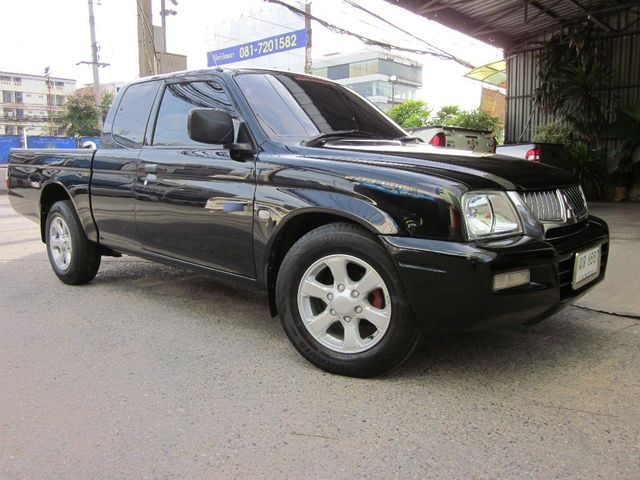pickup: (5, 64, 611, 380)
